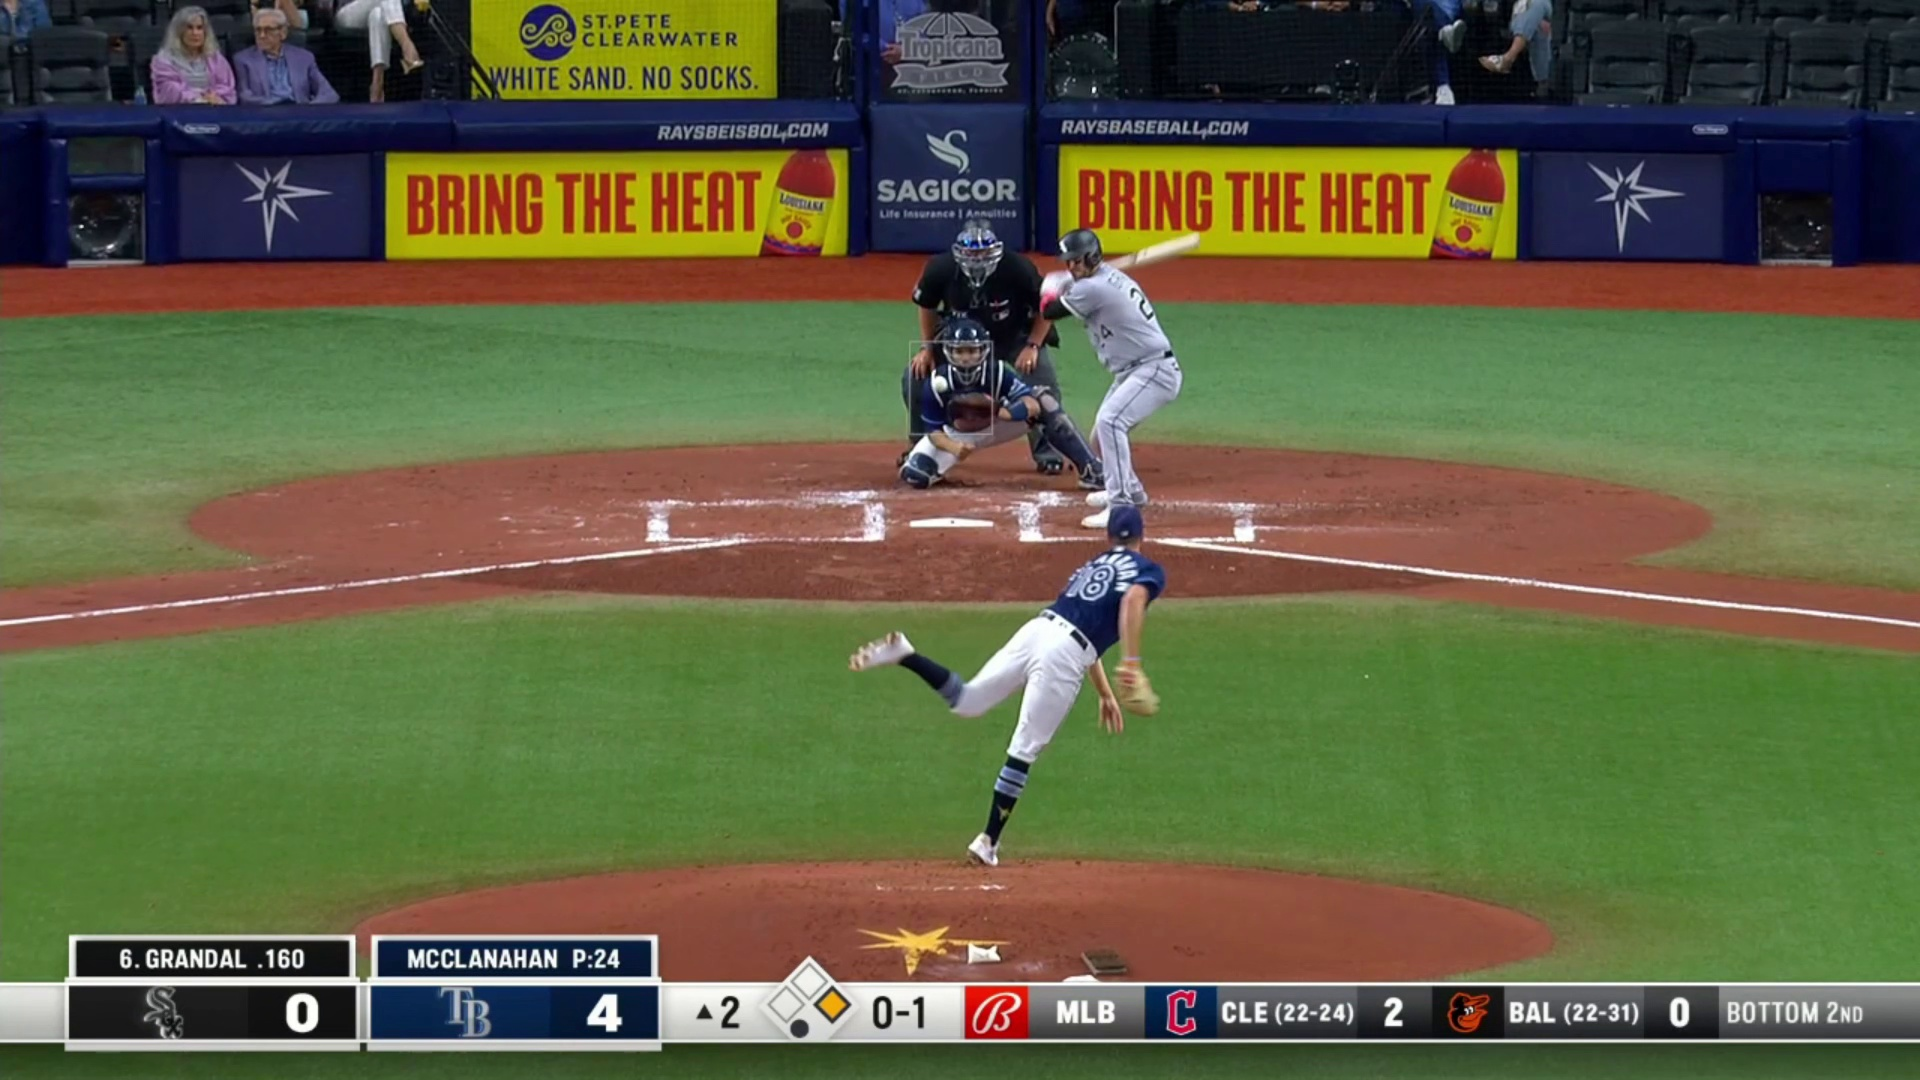baseball: (931, 375, 947, 392)
